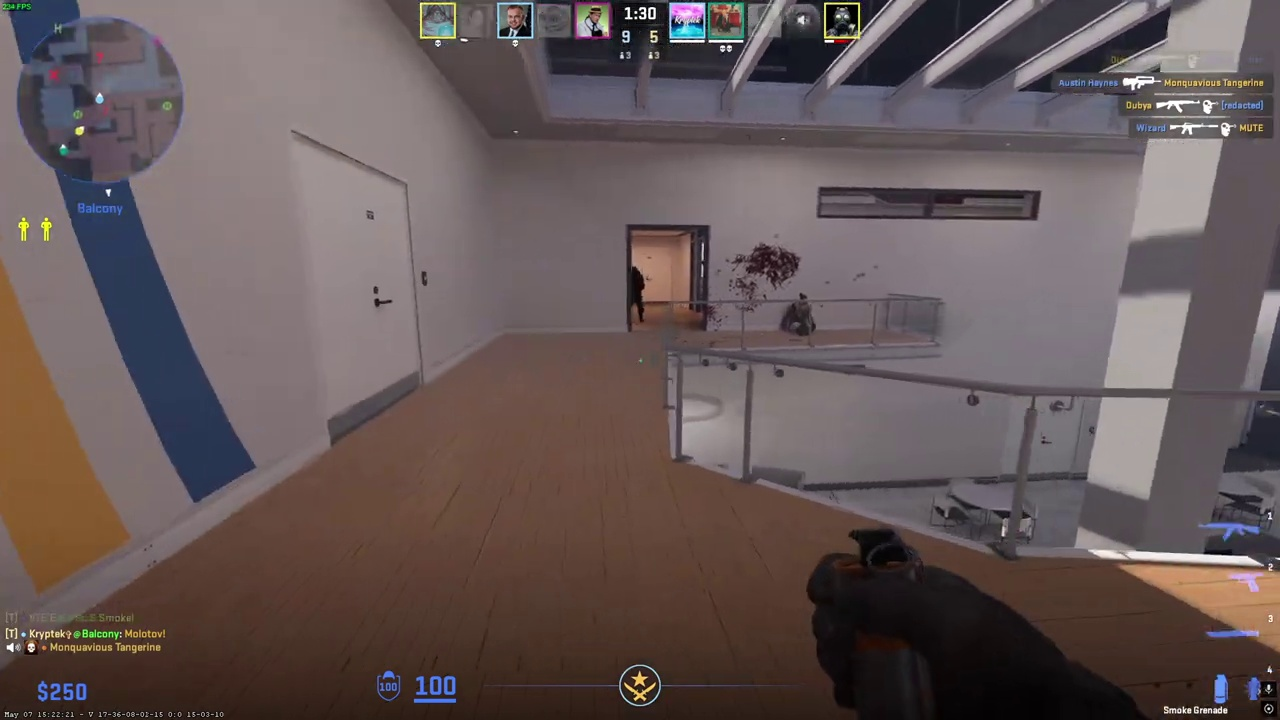CT: (630, 265, 645, 323)
